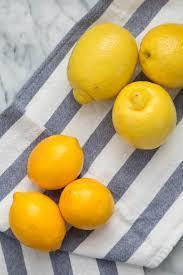lemon: (66, 23, 138, 105), (112, 80, 177, 149), (9, 191, 65, 252), (27, 134, 84, 190), (59, 178, 114, 229), (140, 24, 183, 88)
